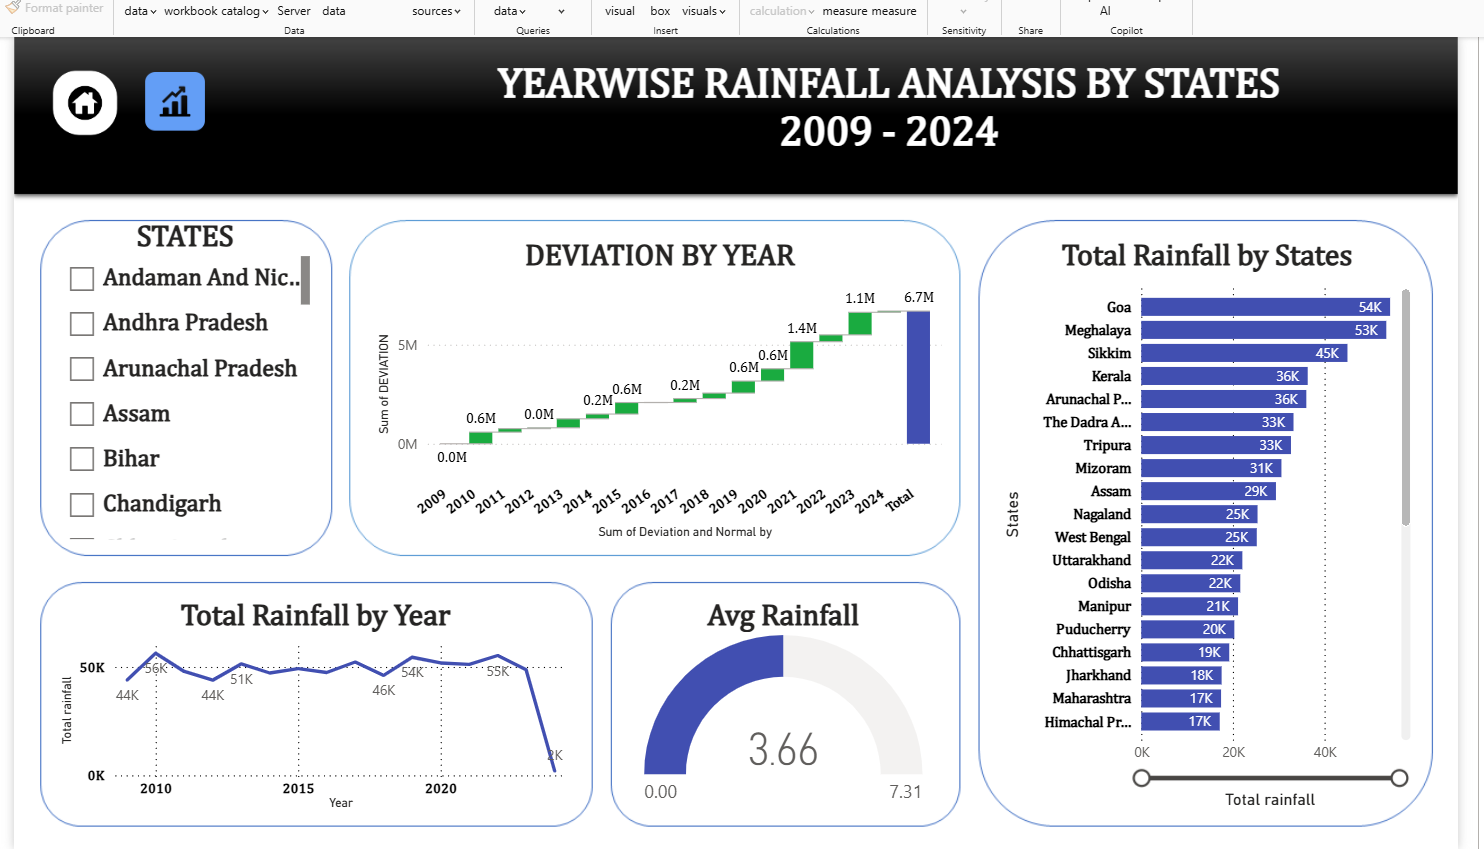

This screenshot's page, from the dashboard's own definition file:
{"tool":"powerbi","page":{"name":"ANALYSIS","canvas":[1280,720],"ordinal":1},"visuals":[{"type":"clusteredBarChart","title":"Total Rainfall by States","fields":{"Category":["daily-rainfall-at-state-level.STATES_NAME"],"Y":["daily-rainfall-at-state-level.Total rainfall"]},"box":[872.4,179.3,370.7,510.3],"z":0},{"type":"waterfallChart","title":"DEVIATION BY YEAR","fields":{"Category":["daily-rainfall-at-state-level.DATE.Variation.Date Hierarchy.Year","daily-rainfall-at-state-level.DATE.Variation.Date Hierarchy.Quarter","daily-rainfall-at-state-level.DATE.Variation.Date Hierarchy.Month","daily-rainfall-at-state-level.DATE.Variation.Date Hierarchy.Day"],"Y":["Sum(daily-rainfall-at-state-level.DEVIATION)"]},"box":[317.2,179.3,510.3,270.7],"z":1000},{"type":"lineChart","title":"Total Rainfall by Year","fields":{"Category":["daily-rainfall-at-state-level.DATE.Variation.Date Hierarchy.Year","daily-rainfall-at-state-level.DATE.Variation.Date Hierarchy.Quarter","daily-rainfall-at-state-level.DATE.Variation.Date Hierarchy.Month","daily-rainfall-at-state-level.DATE.Variation.Date Hierarchy.Day"],"Y":["daily-rainfall-at-state-level.Total rainfall"]},"box":[36.2,498.3,462.1,191.4],"z":2000},{"type":"gauge","fields":{"Y":["daily-rainfall-at-state-level.Avg Rainfall"]},"box":[536.2,498.3,291.4,191.4],"z":3000},{"type":"slicer","title":"STATES","fields":{"Values":["daily-rainfall-at-state-level.States"]},"box":[36.2,162.1,231,287.9],"z":4000},{"type":"textbox","box":[341.4,15.5,869,106.9],"z":5000},{"type":"image","box":[19.8,15.6,87.9,85],"z":5003},{"type":"image","box":[107.7,31.2,70.9,52.4],"z":5004}]}

Visuals, with their boxes on the page's 1280x720 design canvas (x1, y1, x2, y2). These are canvas units, not pixel positions in the 1484x849 screenshot, which may show the page scaled, cropped or inside an application window:
"Total Rainfall by States" clusteredBarChart: (872,179,1243,690)
"DEVIATION BY YEAR" waterfallChart: (317,179,828,450)
"Total Rainfall by Year" lineChart: (36,498,498,690)
gauge - daily-rainfall-at-state-level.Avg Rainfall: (536,498,828,690)
"STATES" slicer: (36,162,267,450)
textbox: (341,16,1210,122)
image: (20,16,108,101)
image: (108,31,179,84)
